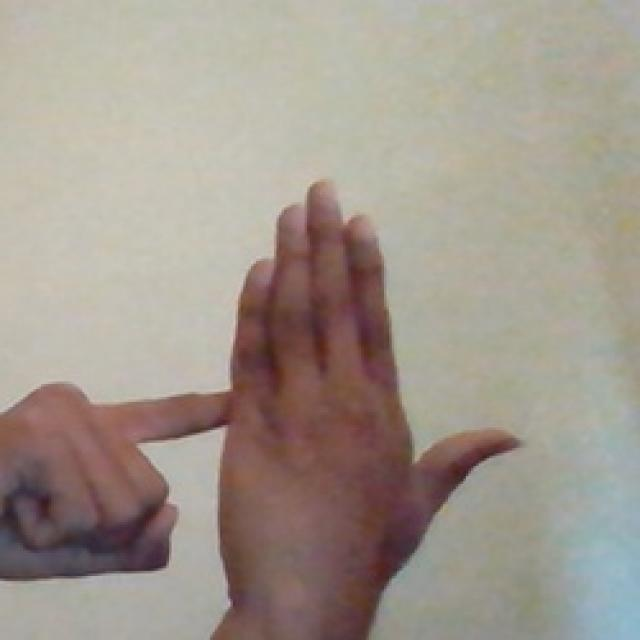Alphabet-R: (1, 166, 523, 640)
